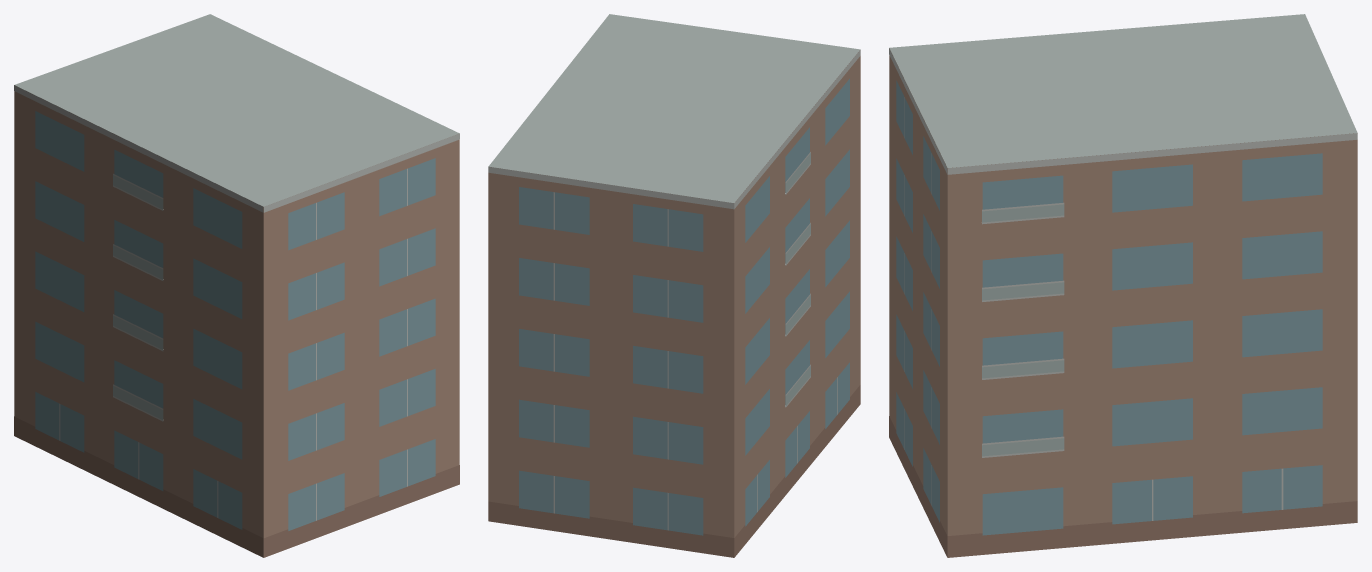
Rendered from survey-upis-32957534.glb.
The picture shows the model from 3 angles, left to right: view 1: azimuth 30°, elevation 25°; view 2: azimuth 150°, elevation 25°; view 3: azimuth 270°, elevation 25°; orthographic projection. The views are drawn at different scales.
Visible parts, largest first — view 1: survey-upis-32957534.tmp; view 2: survey-upis-32957534.tmp; view 3: survey-upis-32957534.tmp.
Part boxes in pixels (x1,y1,x2,y2): survey-upis-32957534.tmp: (14, 14, 459, 557); survey-upis-32957534.tmp: (488, 14, 860, 557); survey-upis-32957534.tmp: (889, 14, 1357, 557).
Size of the model in its own units: 12.06 by 14.2 by 15.48.
